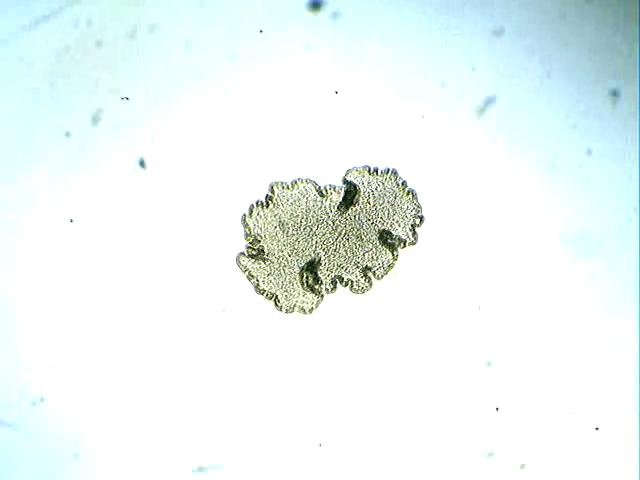Placozoan: (235, 166, 424, 314)
